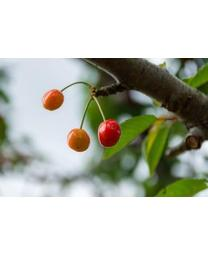cherry: (98, 119, 123, 147), (67, 128, 90, 152), (42, 89, 64, 111)
